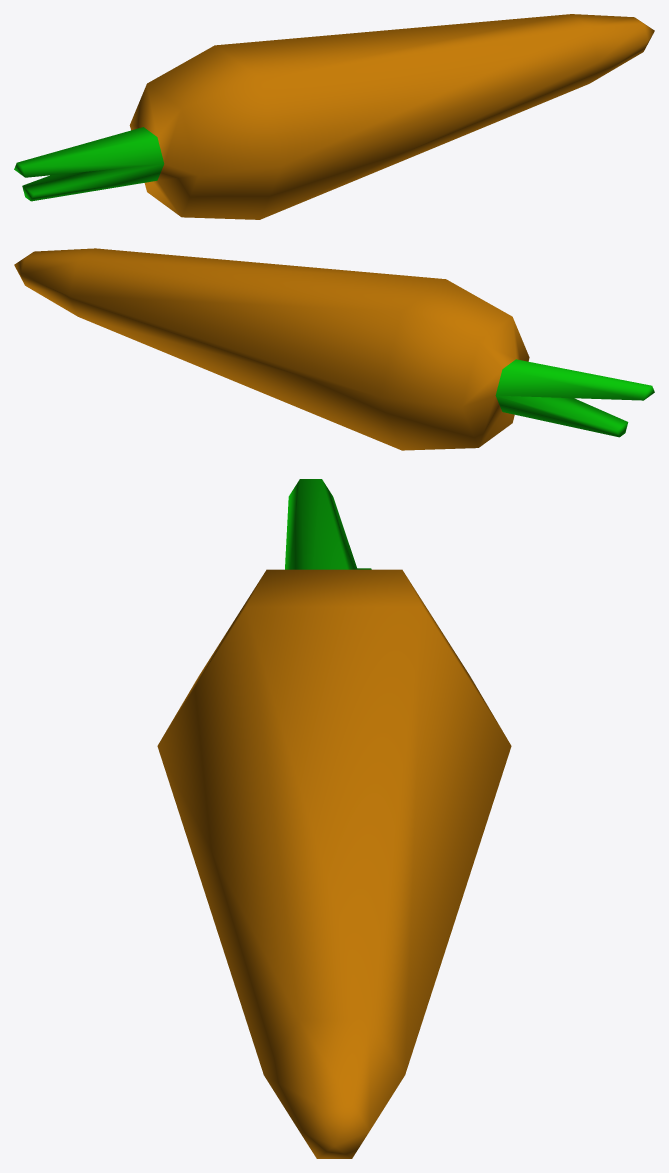
File: Carrot.glb
The picture shows the model from 3 angles, top to bottom: view 1: azimuth 30°, elevation 25°; view 2: azimuth 150°, elevation 25°; view 3: azimuth 270°, elevation 25°; orthographic projection. The views are drawn at different scales.
Visible parts, largest first — view 1: Carrot; view 2: Carrot; view 3: Carrot.
Part boxes in pixels (x1,y1,x2,y2): Carrot: (14,14,654,219); Carrot: (14,248,654,450); Carrot: (157,479,511,1158).
Bounding box in the file's own units: 0.1271 × 0.0268 × 0.031.
